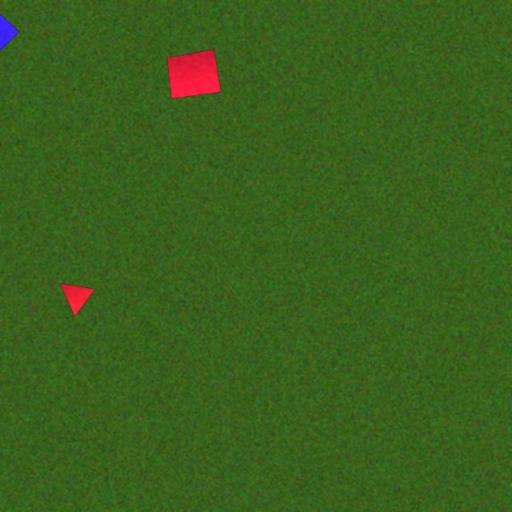RED_SQUARE: (166, 48, 222, 100)
